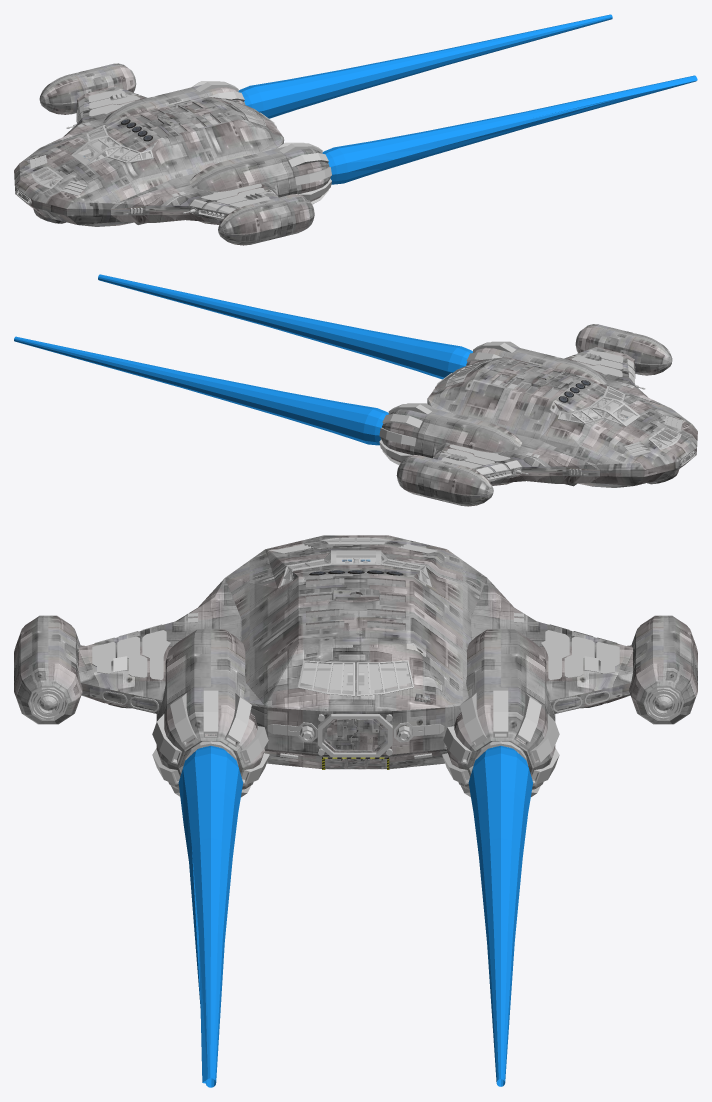
The model's file is SirionShip3.obj.
3 views of the same model, one above another, from view 1: azimuth 30°, elevation 25°; view 2: azimuth 150°, elevation 25°; view 3: azimuth 270°, elevation 25° (orthographic). The views are drawn at different scales.
Bounding box in the file's own units: 157 × 18.61 × 85.81.
